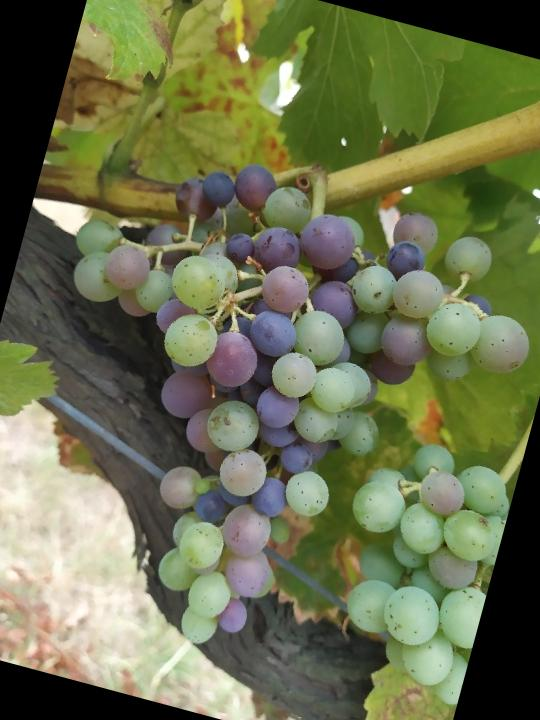grape: (0, 126, 540, 711)
